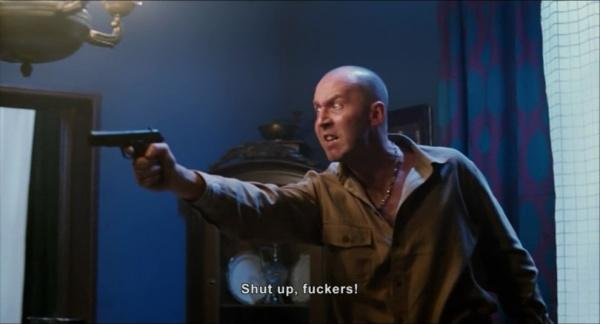Gun: (89, 127, 168, 185)
